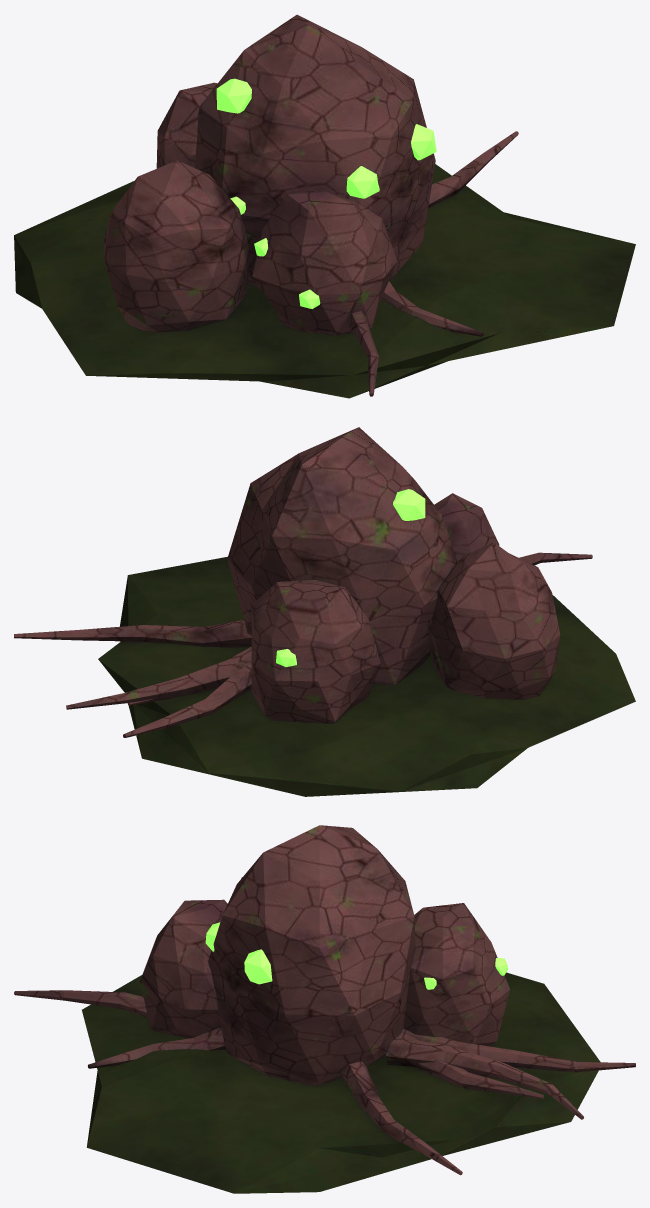
Rendered from blight_pod.glb.
3 renders of one model, top to bottom at view 1: azimuth 30°, elevation 25°; view 2: azimuth 150°, elevation 25°; view 3: azimuth 270°, elevation 25°, orthographic. The views are drawn at different scales.
Visible parts, largest first — view 1: blight_pod, blight_pod_glow; view 2: blight_pod, blight_pod_glow; view 3: blight_pod, blight_pod_glow.
Boxes of the visible parts, x1,y1,x2,y2 form: blight_pod: (14,14,635,398); blight_pod_glow: (216,78,436,308); blight_pod: (14,427,635,796); blight_pod_glow: (276,489,425,666); blight_pod: (14,825,635,1193); blight_pod_glow: (205,922,507,989).
Size of the model in its own units: 2.82 by 1.46 by 2.94.
2 materials, 1 textured.
